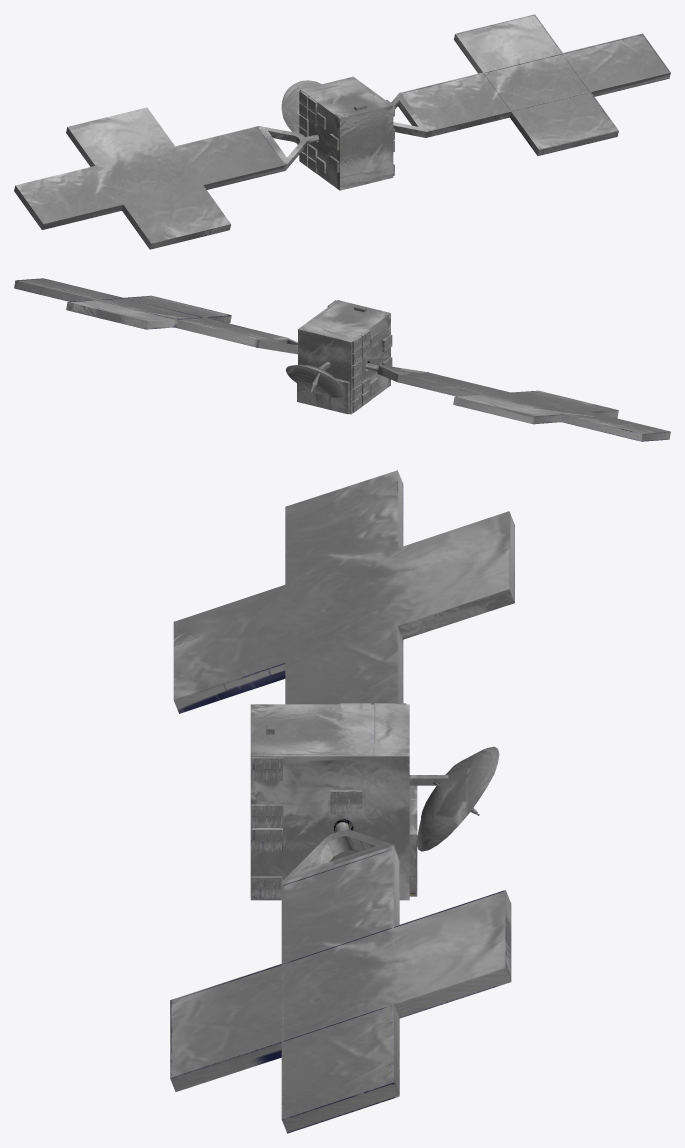
File: compressed-spacecraft.glb
3 renders of one model, top to bottom at view 1: azimuth 30°, elevation 25°; view 2: azimuth 150°, elevation 25°; view 3: azimuth 270°, elevation 25°, orthographic. The views are drawn at different scales.
Visible parts, largest first — view 1: Psyche; view 2: Psyche; view 3: Psyche.
Boxes of the visible parts, x1,y1,x2,y2 form: Psyche: (14,14,670,249); Psyche: (14,278,670,441); Psyche: (170,470,514,1133).
Size of the model in its own units: 463 by 54.51 by 110.
1 material, 1 textured.
